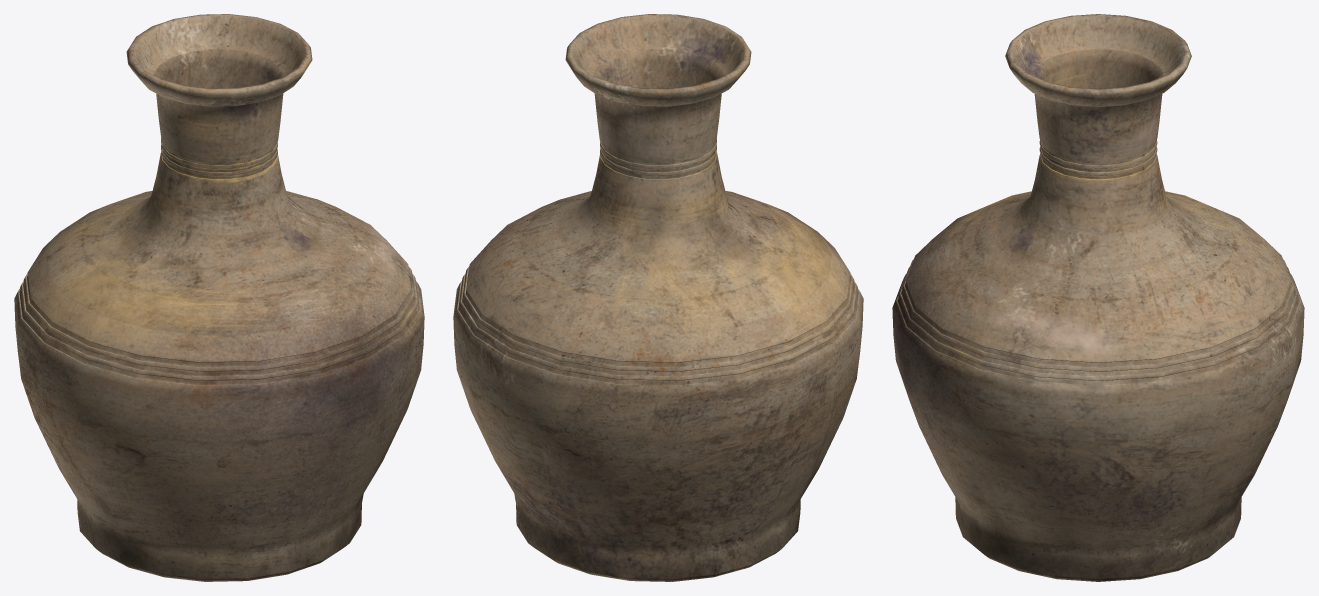
The model's file is ancient_pottery_vase.glb.
3 views of the same model, side by side, from view 1: azimuth 30°, elevation 25°; view 2: azimuth 150°, elevation 25°; view 3: azimuth 270°, elevation 25° (orthographic).
Visible parts, largest first — view 1: vase; view 2: vase; view 3: vase.
Boxes of the visible parts, x1=… form: vase: x1=14, y1=14, x2=424, y2=581; vase: x1=453, y1=14, x2=863, y2=581; vase: x1=892, y1=14, x2=1304, y2=581.
Size of the model in its own units: 108 by 136 by 108.
1 material, 1 textured.
